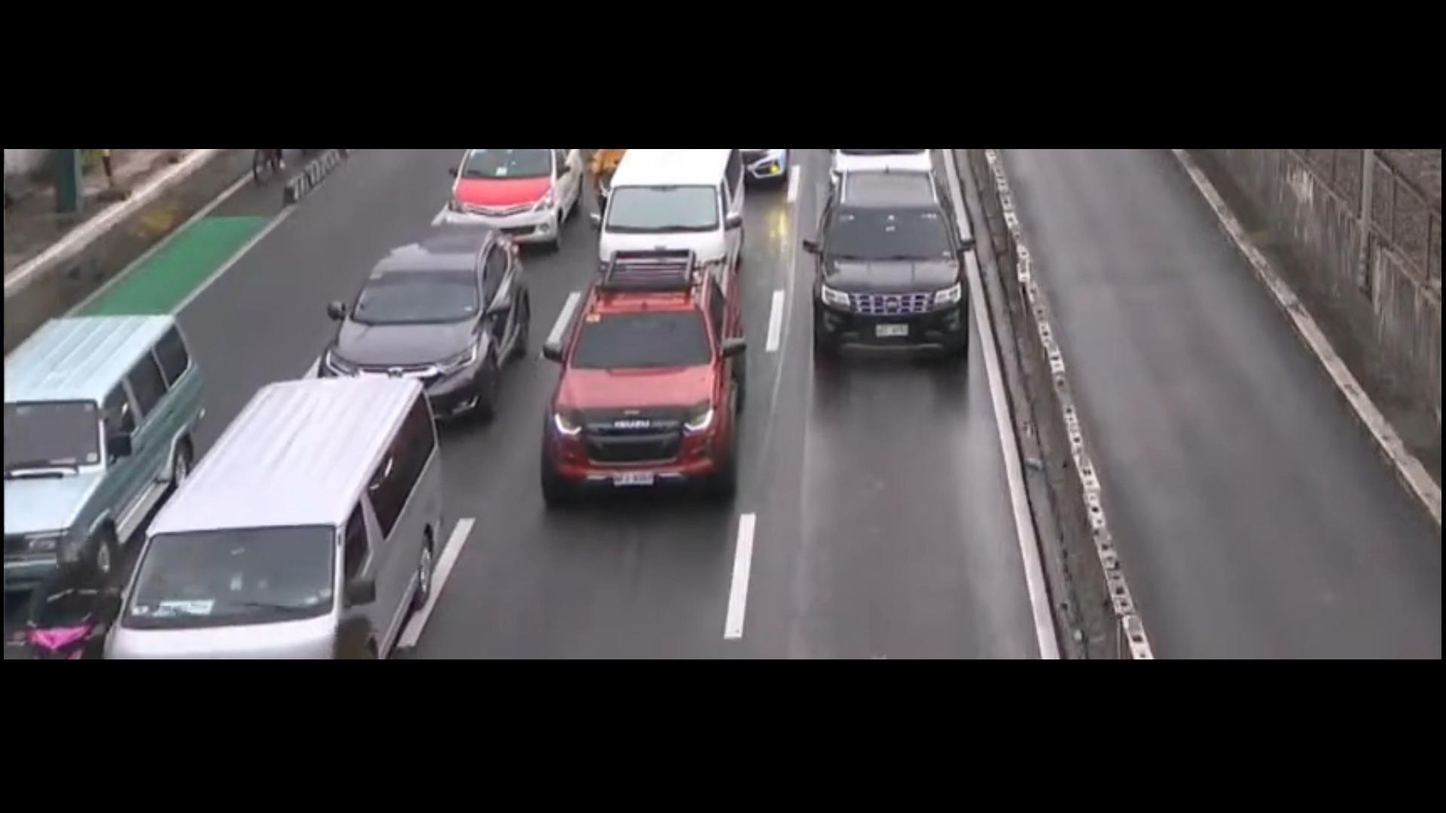Motorcycle: (9, 544, 134, 662)
Multicab: (598, 134, 789, 281)
SUV: (512, 247, 784, 517), (0, 266, 239, 560), (819, 157, 1006, 379), (325, 222, 531, 409)
Van: (98, 343, 449, 657)
